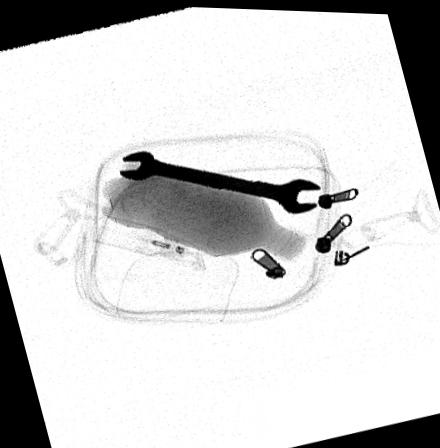Wrench: (119, 151, 326, 214)
